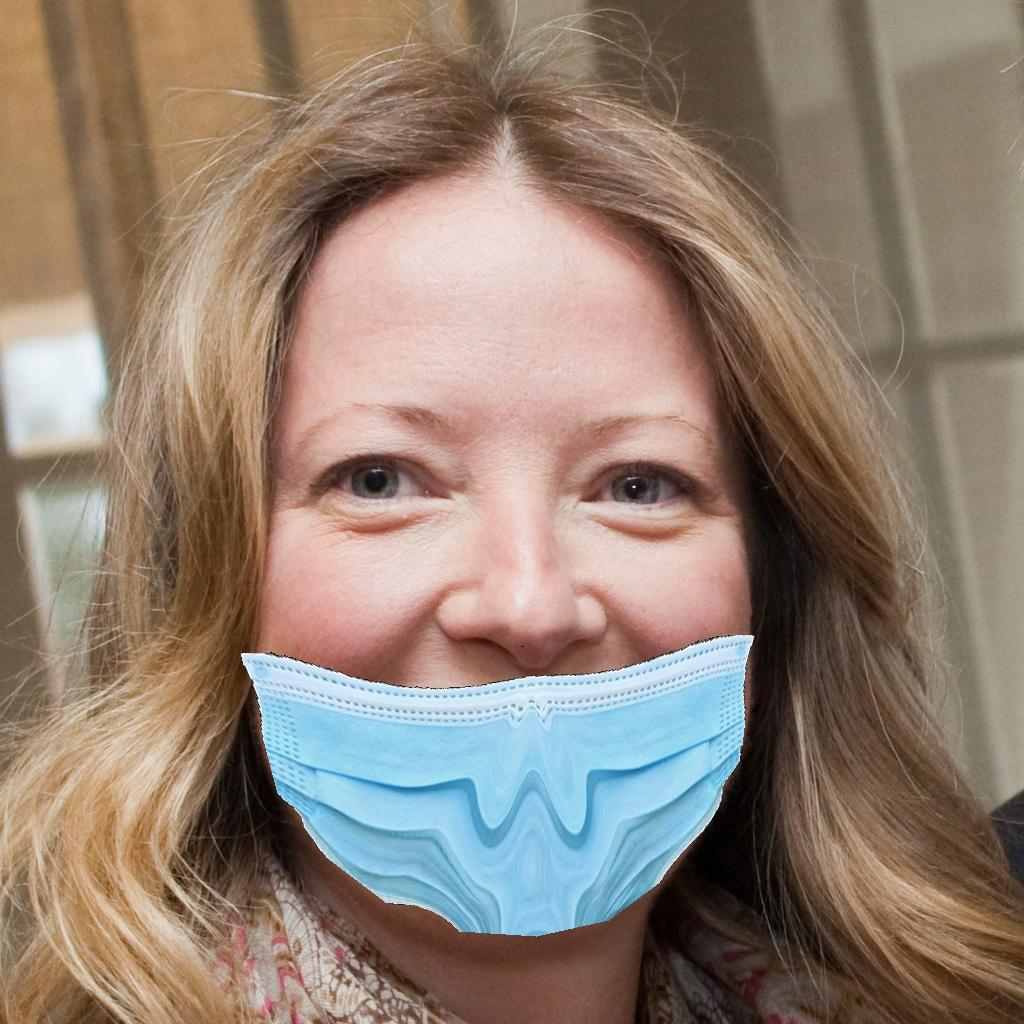Máscara Incorreta: (270, 358, 746, 930)
